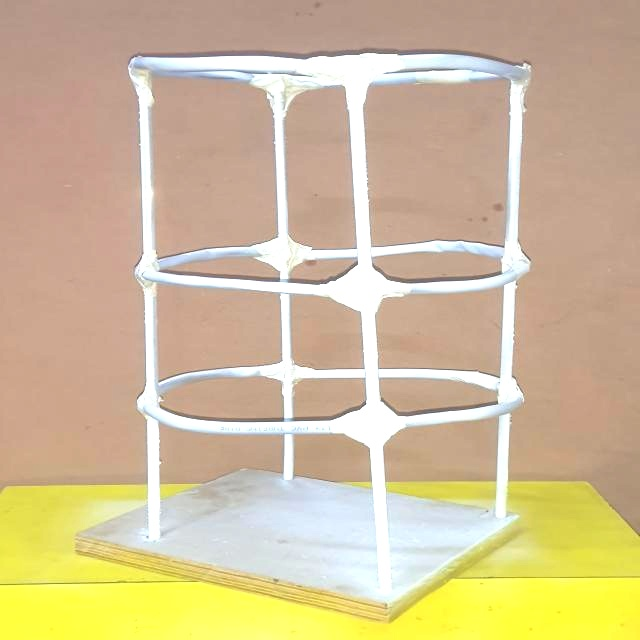silo: (109, 39, 530, 619)
